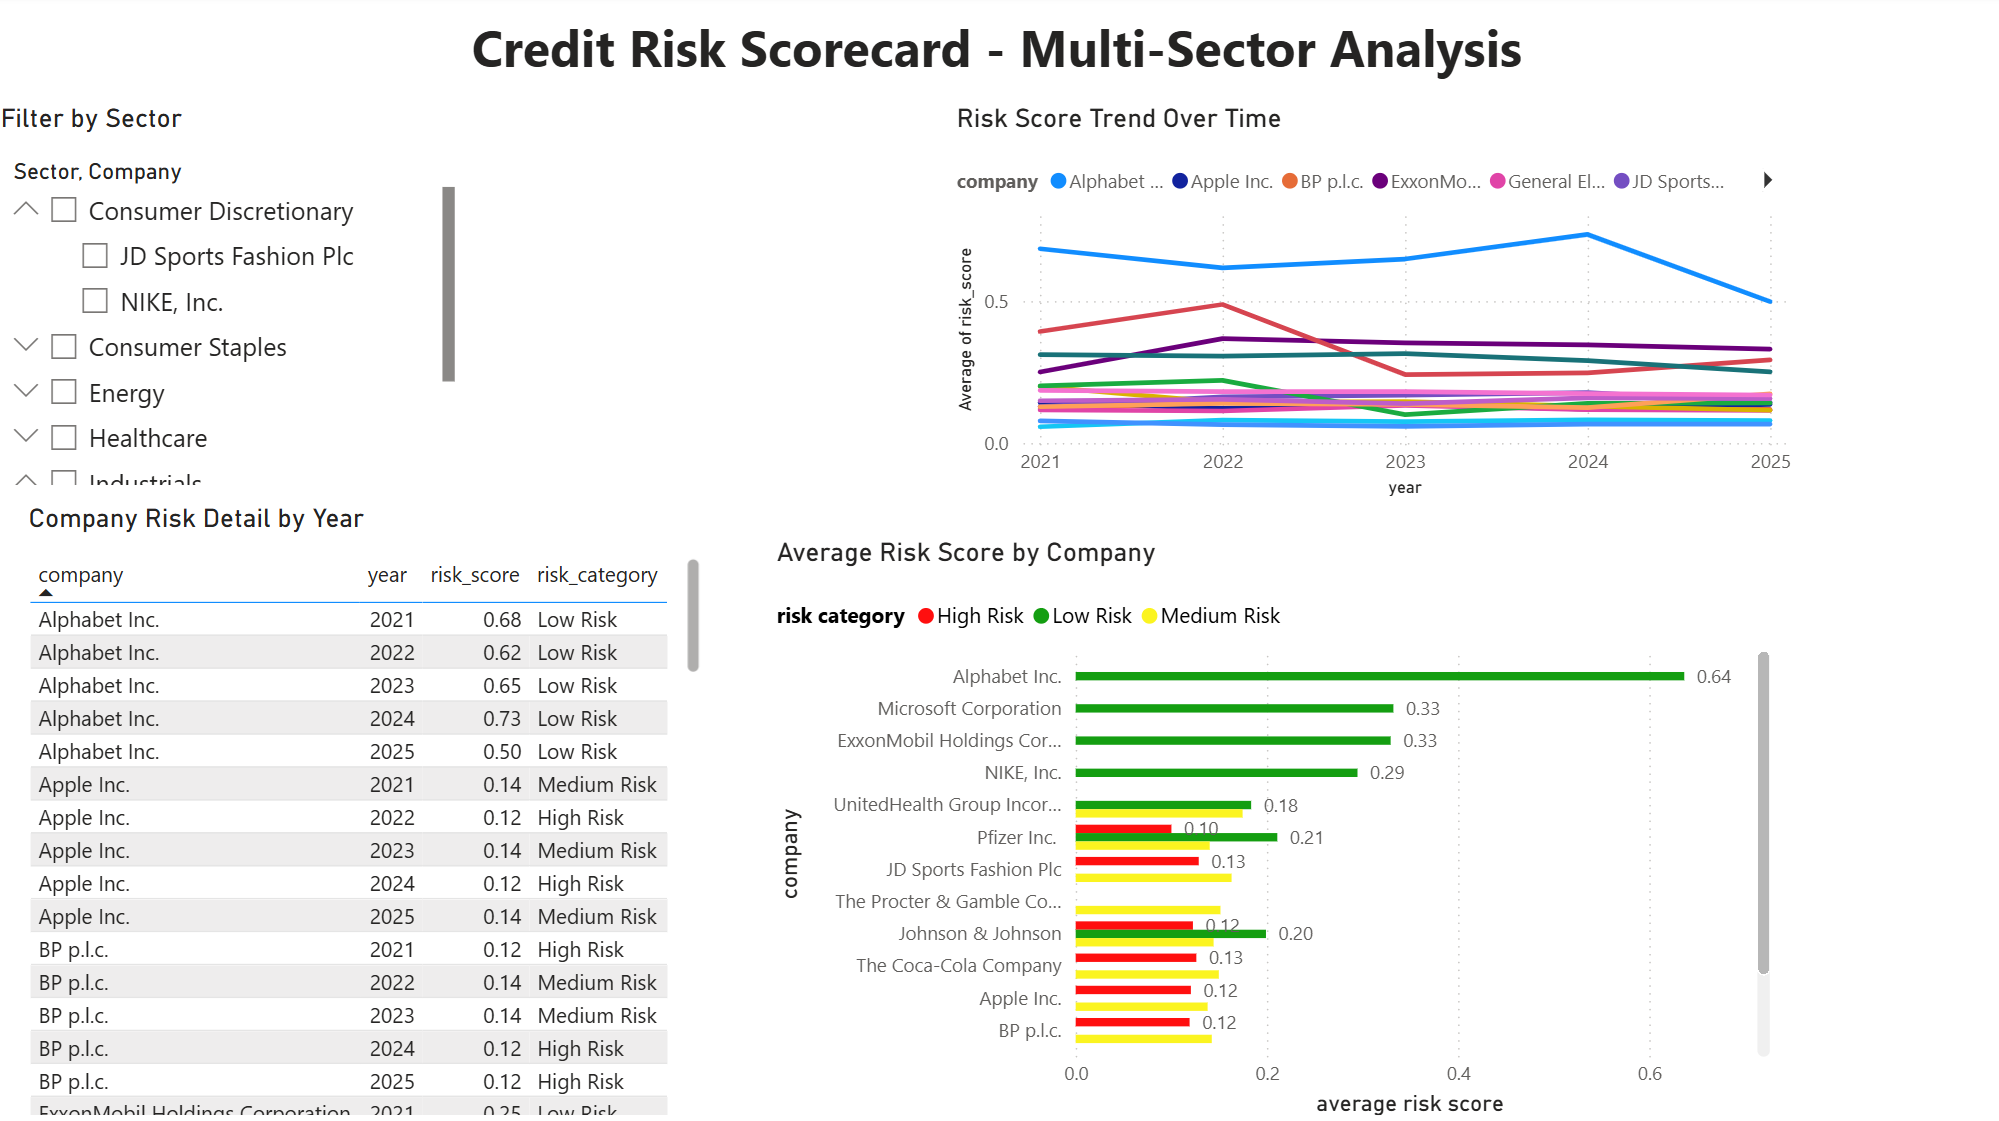

What the dashboard file says about the page in this screenshot:
{"tool":"powerbi","page":{"name":"Page 1","canvas":[1280,720],"ordinal":0},"visuals":[{"type":"clusteredBarChart","title":"Average Risk Score by Company","fields":{"Category":["risk_scores_output.company"],"Y":["Avg(risk_scores_output.risk_score)"],"Series":["risk_scores_output.risk_category"]},"box":[494.2,346.8,643.1,373.6],"z":0},{"type":"tableEx","title":"Company Risk Detail by Year","fields":{"Values":["risk_scores_output.company","risk_scores_output.year","risk_scores_output.risk_score","risk_scores_output.risk_category"]},"box":[17.3,324.9,437.8,395.1],"z":1000},{"type":"lineChart","title":"Risk Score Trend Over Time","fields":{"Y":["Avg(risk_scores_output.risk_score)"],"Category":["risk_scores_output.year"],"Series":["risk_scores_output.company"]},"box":[609.4,70.3,541.4,255.7],"z":2000},{"type":"slicer","title":"Filter by Sector","fields":{"Values":["financials_master.Sector","financials_master.Company"]},"box":[0,70.1,299.6,248.6],"z":3000},{"type":"textbox","box":[0,8.1,1279.9,53],"z":4000}]}

Visuals, with their boxes in screenshot pixels (x1, y1, x2, y2), scaled from the page's 1280x720 canvas onto the 1999x1121 screenshot:
"Average Risk Score by Company" clusteredBarChart: 772,540,1776,1120
"Company Risk Detail by Year" tableEx: 27,506,711,1120
"Risk Score Trend Over Time" lineChart: 952,109,1797,508
"Filter by Sector" slicer: 0,109,468,496
textbox: 0,13,1998,95
